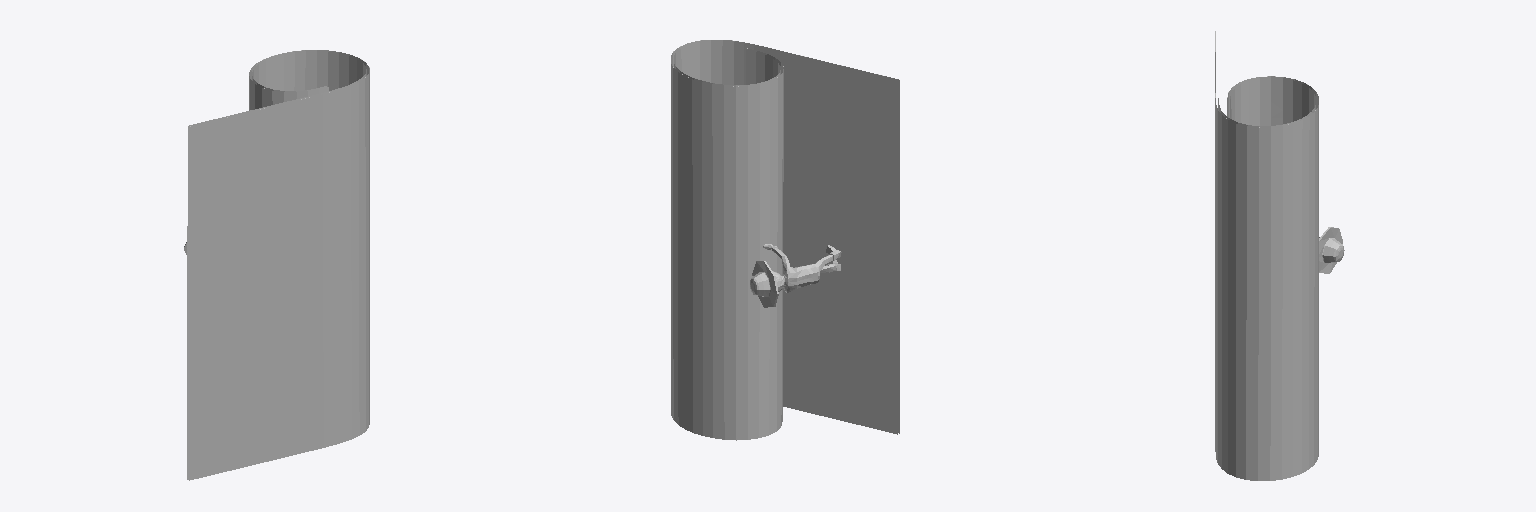
Rendered from start_file2_000037.obj.
3 renders of one model, left to right at view 1: azimuth 30°, elevation 25°; view 2: azimuth 150°, elevation 25°; view 3: azimuth 270°, elevation 25°, orthographic.
Parts seen in each view (by area): view 1: Cube_Cube.001; view 2: Cube_Cube.001, Character_Cube; view 3: Cube_Cube.001, Character_Cube.
Part boxes in pixels (left/top/right/bottom): Cube_Cube.001: left=187, top=50, right=369, bottom=480; Cube_Cube.001: left=671, top=40, right=899, bottom=440; Character_Cube: left=750, top=244, right=841, bottom=307; Cube_Cube.001: left=1215, top=31, right=1318, bottom=480; Character_Cube: left=1319, top=227, right=1344, bottom=273.
Size of the model in its own units: 0.8958 by 1.52 by 0.5044.